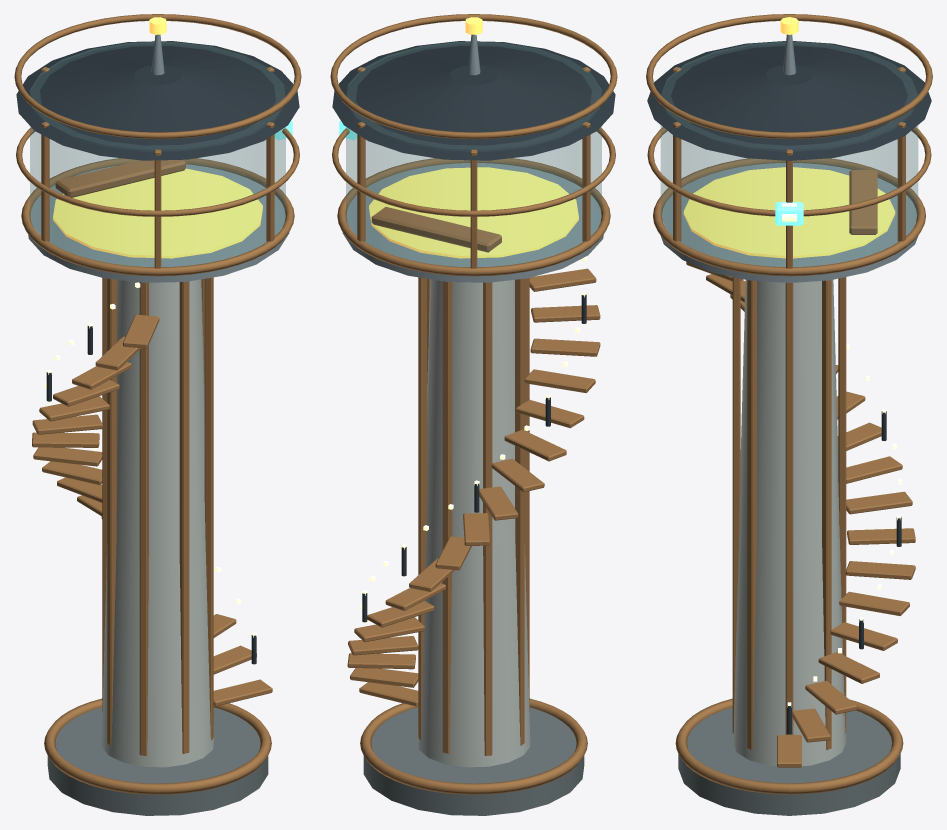
The model's file is sky-pod.lod0.glb.
3 renders of one model, left to right at view 1: azimuth 30°, elevation 25°; view 2: azimuth 150°, elevation 25°; view 3: azimuth 270°, elevation 25°, orthographic.
Visible parts, largest first — view 1: structure, scanner; view 2: structure, scanner; view 3: structure, scanner.
Part boxes in pixels (<box>): structure: <box>14,14,301,815</box>; scanner: <box>16,120,299,216</box>; structure: <box>330,14,617,815</box>; scanner: <box>332,120,615,216</box>; structure: <box>646,14,932,815</box>; scanner: <box>647,127,931,225</box>.
Size of the model in its own units: 5.16 by 14.5 by 5.04.
